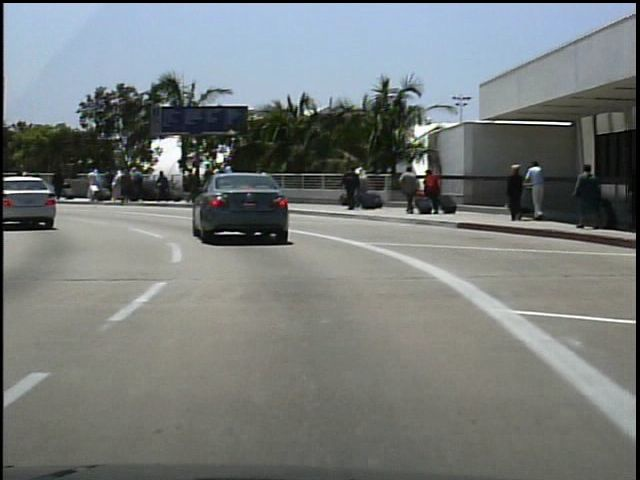person: (571, 162, 604, 230), (526, 157, 550, 227), (504, 161, 527, 223), (397, 164, 420, 216), (342, 165, 363, 213), (423, 165, 442, 212), (38, 167, 59, 203), (629, 157, 639, 229), (54, 165, 70, 199), (18, 165, 31, 200)
